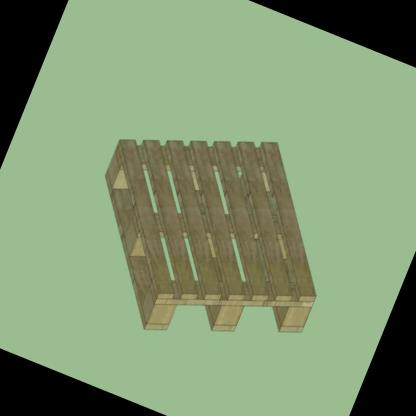BoxFace: (101, 136, 320, 344)
